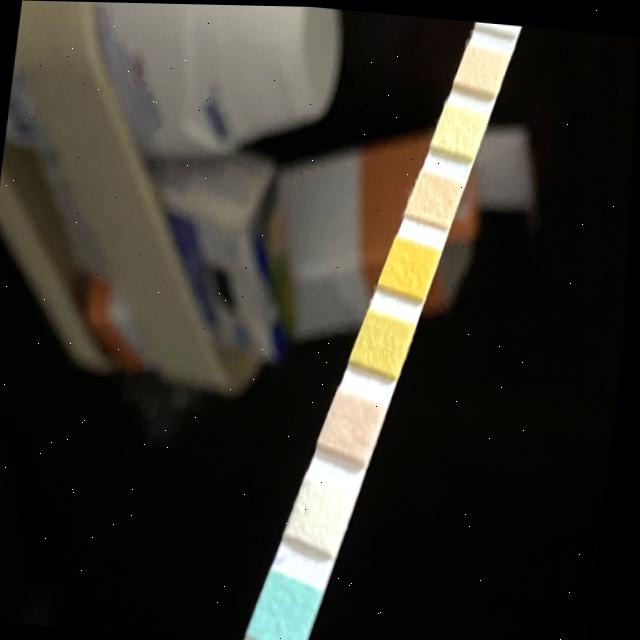Bilirubin: (300, 483, 352, 535)
Blood: (389, 240, 436, 286)
Glucose: (264, 578, 319, 638)
Ketone: (331, 396, 381, 445)
Nitrite: (483, 19, 520, 28)
Protein: (438, 105, 483, 147)
SpGravity: (362, 314, 410, 364)
Urobilinogen: (461, 47, 503, 86)
pH: (414, 175, 460, 212)
